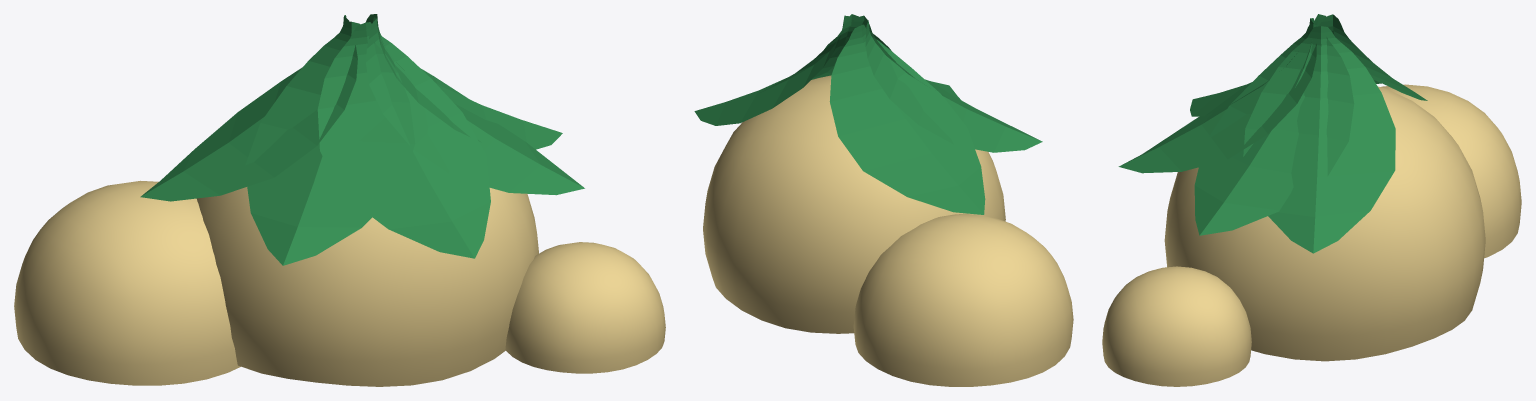
File: house_2_2.fbx
The picture shows the model from 3 angles, left to right: view 1: azimuth 30°, elevation 25°; view 2: azimuth 150°, elevation 25°; view 3: azimuth 270°, elevation 25°; orthographic projection. The views are drawn at different scales.
Parts seen in each view (by area): view 1: house-2-2; view 2: house-2-2; view 3: house-2-2.
Boxes of the visible parts, <box> form: house-2-2: <box>14,14,665,386</box>; house-2-2: <box>694,14,1073,386</box>; house-2-2: <box>1102,14,1521,386</box>.
Size of the model in its own units: 1523 by 905 by 1224.
